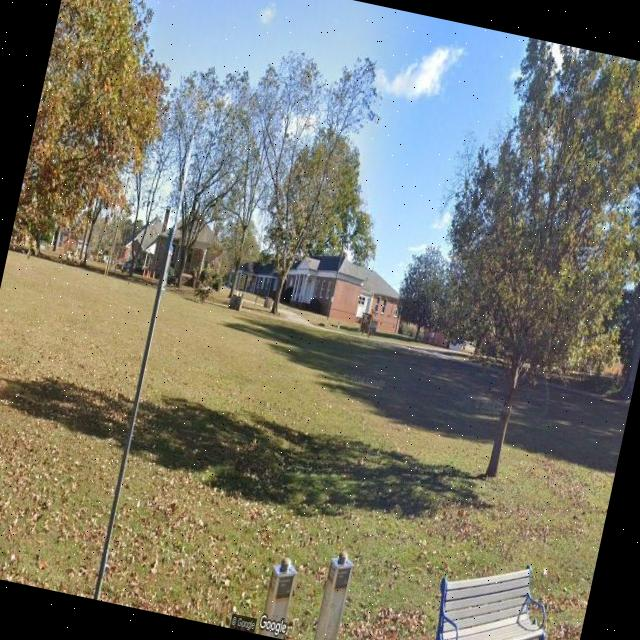seating: (421, 545, 560, 640)
